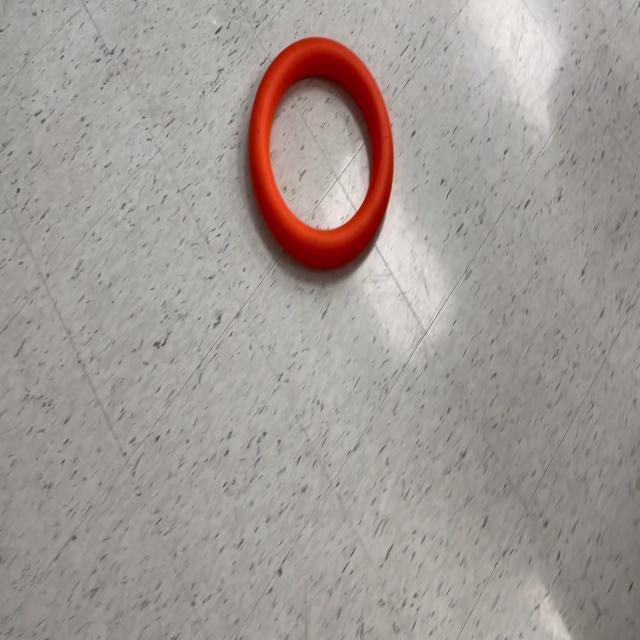note: (248, 36, 394, 274)
